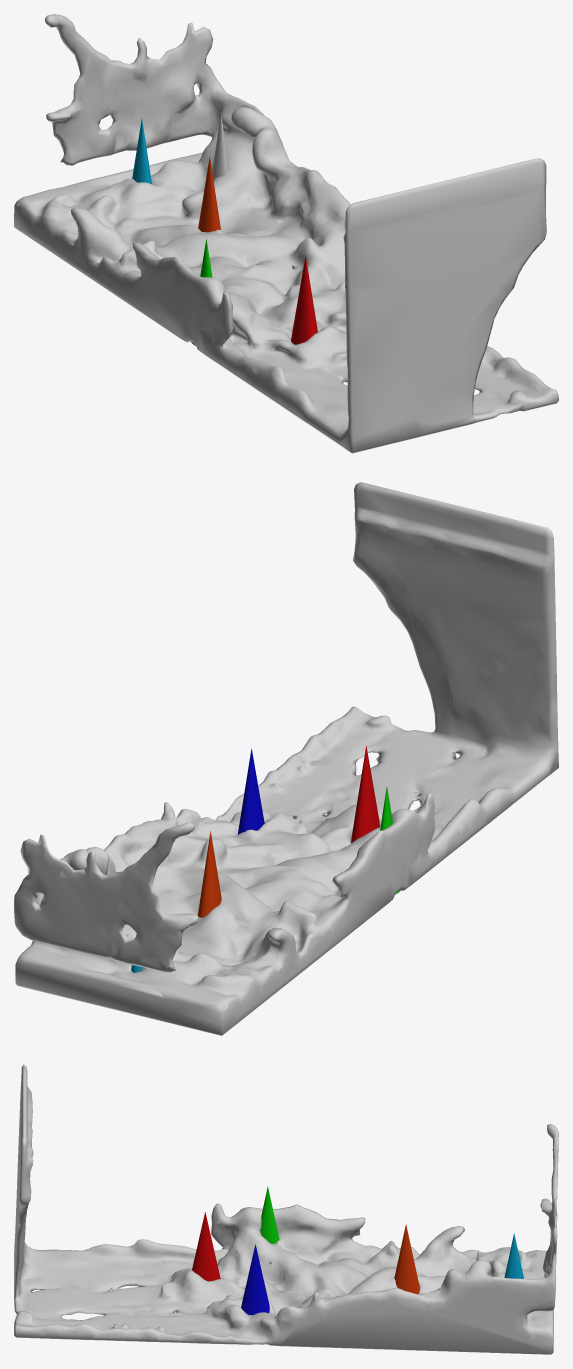
3 views of the same model, one above another, from view 1: azimuth 30°, elevation 25°; view 2: azimuth 150°, elevation 25°; view 3: azimuth 270°, elevation 25° (orthographic). The views are drawn at different scales.
Visible parts, largest first — view 1: Liquid_Domain, 円錐.001, 円錐.004, 円錐.005, 円錐; view 2: Liquid_Domain, 円錐.001, 円錐.002, 円錐.004; view 3: Liquid_Domain, 円錐.002, 円錐.001, 円錐.004, 円錐.003, 円錐.005.
Part boxes in pixels (x1,y1,x2,y2): Liquid_Domain: (14,14,558,453); 円錐.001: (291,256,317,344); 円錐.004: (198,156,220,232); 円錐.005: (132,119,151,184); 円錐: (212,115,229,179); Liquid_Domain: (14,482,558,1035); 円錐.001: (351,746,379,842); 円錐.002: (237,749,264,834); 円錐.004: (197,831,221,917); Liquid_Domain: (14,1064,558,1354); 円錐.002: (241,1244,269,1315); 円錐.001: (192,1212,220,1281); 円錐.004: (394,1224,419,1294); 円錐.003: (260,1186,279,1243); 円錐.005: (504,1233,523,1278).
Size of the model in its own units: 129 by 158 by 365.
